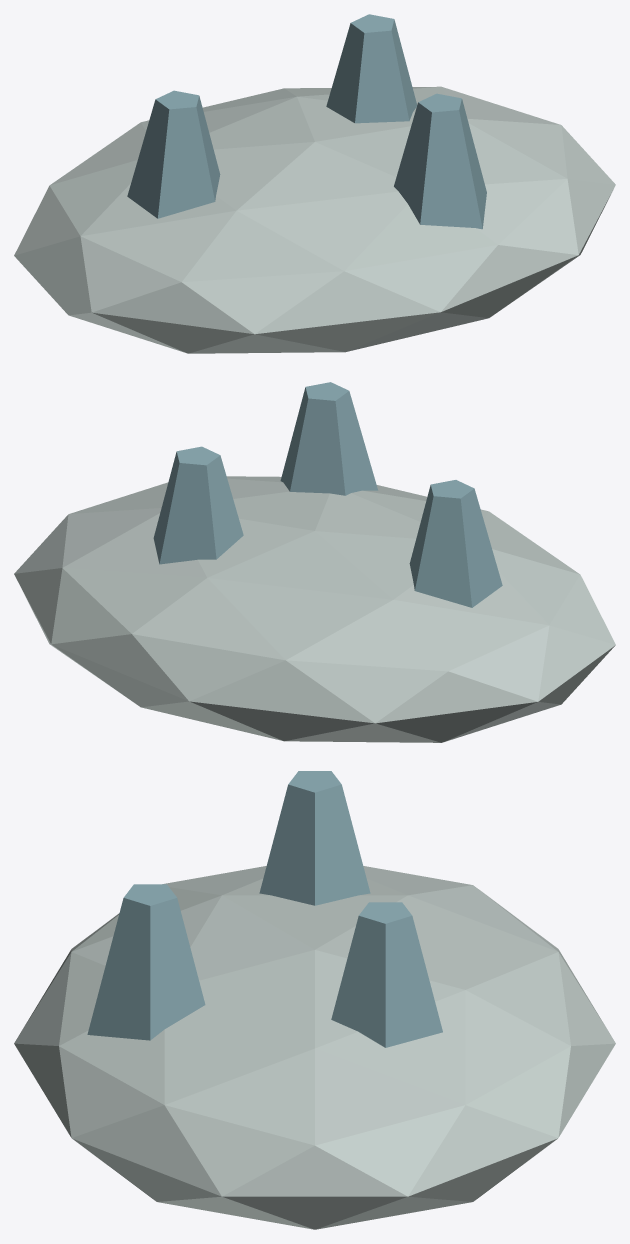
File: map-exclusive-v3__frost_10.glb
The picture shows the model from 3 angles, top to bottom: view 1: azimuth 30°, elevation 25°; view 2: azimuth 150°, elevation 25°; view 3: azimuth 270°, elevation 25°; orthographic projection. The views are drawn at different scales.
Visible parts, largest first — view 1: frost_10; view 2: frost_10; view 3: frost_10.
Boxes of the visible parts, <box> form: frost_10: <box>14,14,615,353</box>; frost_10: <box>14,382,615,742</box>; frost_10: <box>14,771,615,1229</box>.
Size of the model in its own units: 1.54 by 0.65 by 1.28.
